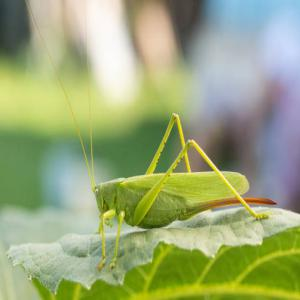locust: (71, 96, 260, 251)
